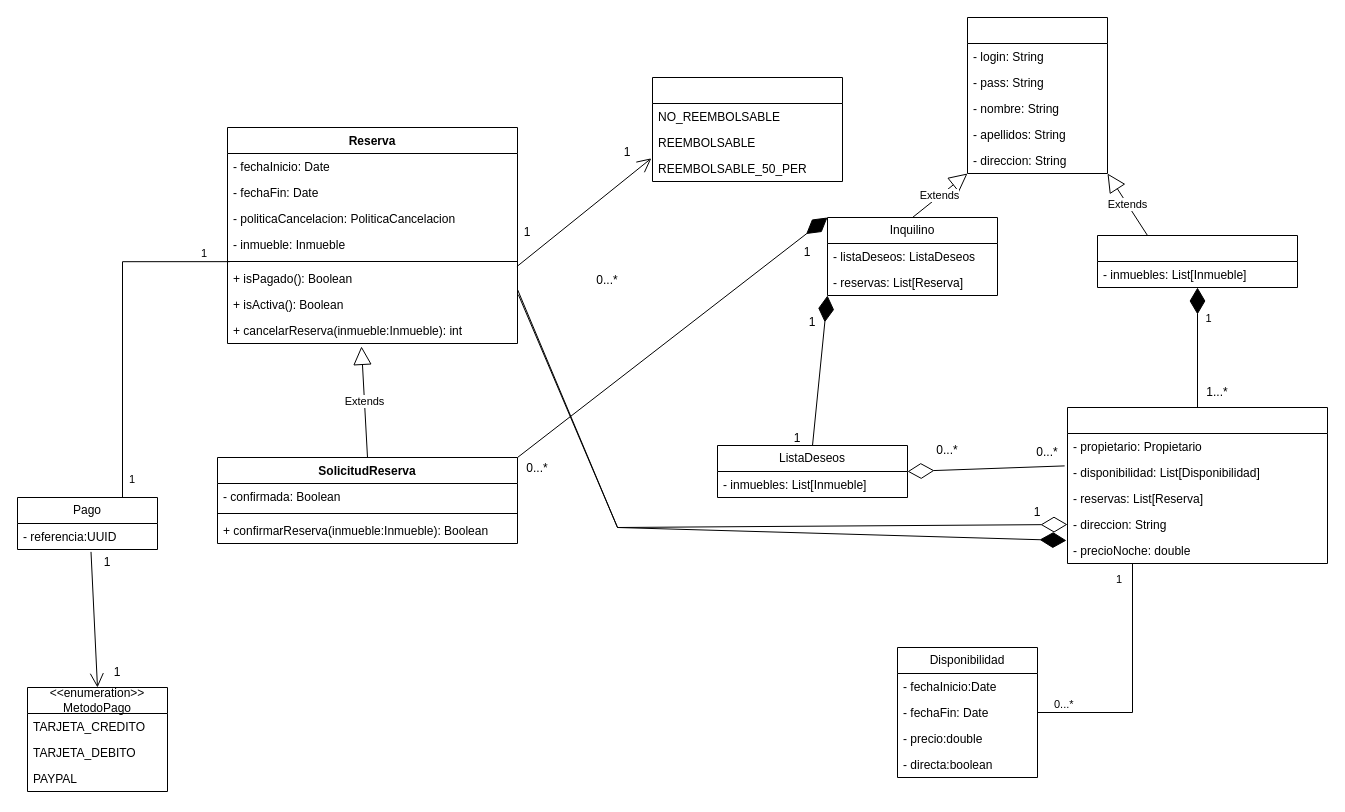
The diagram is 1345 pixels wide and 812 high, and some of its shapes have lost their labels. Here are the shapes that lost their labels. From the top down, the box of each, then its label:
(966, 16, 1108, 174): Usuario
(652, 76, 842, 182): <<enumeration>> PoliticaCancelacion
(1096, 234, 1298, 288): Propietario
(1066, 406, 1328, 564): Inmueble
